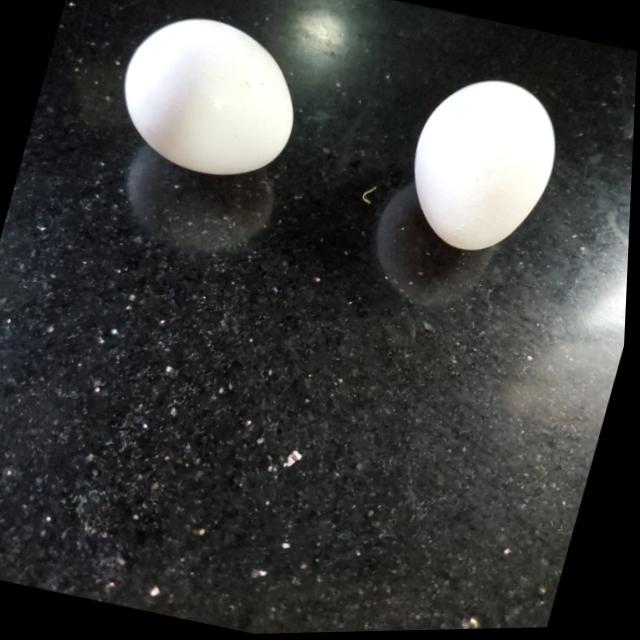egg: (101, 1, 323, 198), (389, 65, 577, 274)
